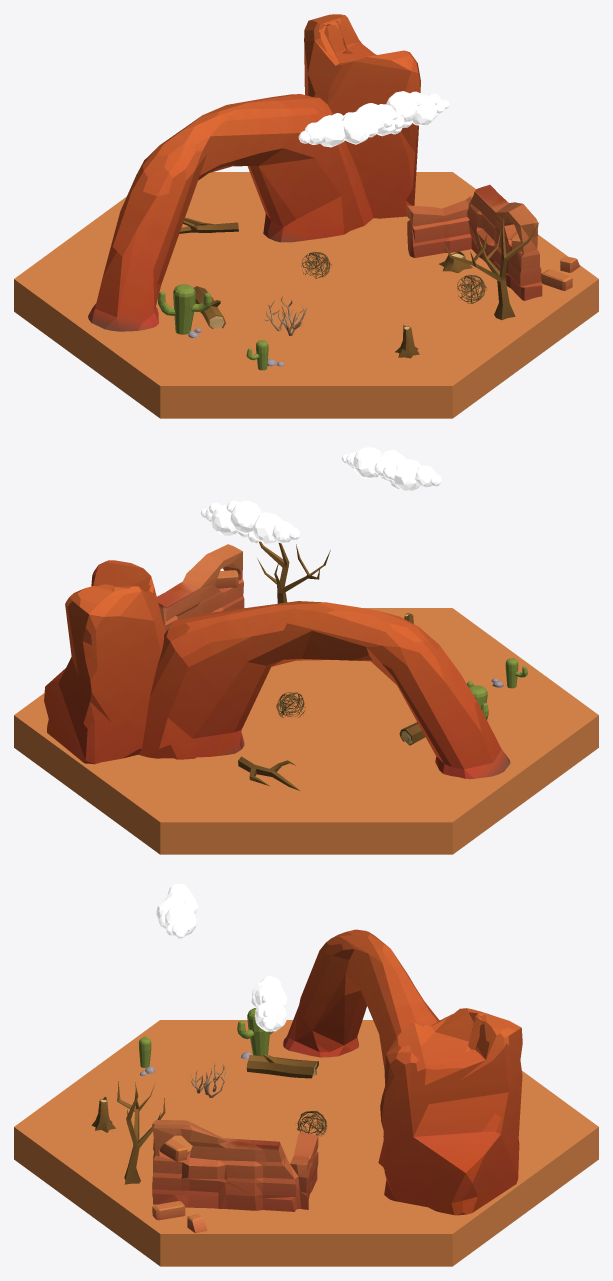
File: alm.glb
3 views of the same model, one above another, from view 1: azimuth 30°, elevation 25°; view 2: azimuth 150°, elevation 25°; view 3: azimuth 270°, elevation 25° (orthographic).
Parts seen in each view (by area): view 1: Circle, Stone.Archway.000__0, Ruins.000__0, Object_0.001, Object_0, Object_36, Tree_Bark_Bare_0.035, Plane.007_Material.001_0, Plane.007_Material.001_0.001; view 2: Circle, Stone.Archway.000__0, Ruins.000__0, Object_0, Object_0.001, Object_36, Plane.007_Material.001_0.001; view 3: Circle, Stone.Archway.000__0, Ruins.000__0, Object_0.001, Object_0, Object_36, Tree_Bark_Bare_0.205, Tree_Bark_Bare_0.049, Plane.007_Material.001_0.001.
Boxes of the visible parts, x1,y1,x2,y2 form: Circle: (14, 172, 598, 418); Stone.Archway.000__0: (88, 14, 420, 331); Ruins.000__0: (407, 184, 580, 300); Object_0.001: (298, 103, 397, 147); Object_0: (377, 91, 449, 136); Object_36: (158, 284, 268, 370); Tree_Bark_Bare_0.035: (477, 222, 539, 319); Plane.007_Material.001_0: (457, 274, 486, 303); Plane.007_Material.001_0.001: (301, 251, 331, 278); Circle: (14, 608, 598, 854); Stone.Archway.000__0: (44, 560, 510, 779); Ruins.000__0: (157, 544, 244, 632); Object_0: (200, 500, 300, 543); Object_0.001: (341, 447, 441, 491); Object_36: (467, 658, 527, 719); Plane.007_Material.001_0.001: (276, 692, 305, 717); Circle: (14, 1020, 598, 1266); Stone.Archway.000__0: (283, 929, 522, 1215); Ruins.000__0: (152, 1120, 318, 1233); Object_0.001: (156, 883, 198, 938); Object_0: (251, 975, 286, 1031); Object_36: (139, 1008, 273, 1067); Tree_Bark_Bare_0.205: (246, 1060, 313, 1075); Tree_Bark_Bare_0.049: (125, 1124, 152, 1184); Plane.007_Material.001_0.001: (295, 1110, 327, 1136).
Size of the model in its own units: 30.49 by 17.09 by 35.2.
10 materials, 3 textured.
